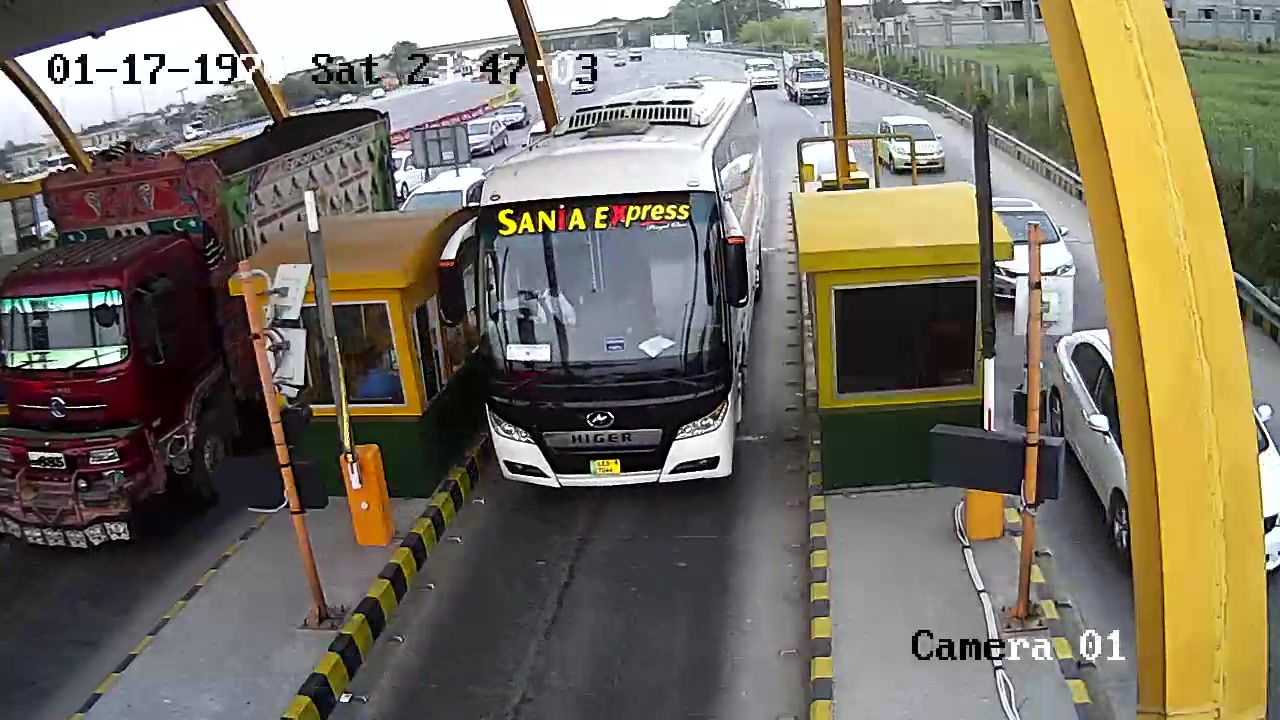F4: (483, 80, 765, 498)
